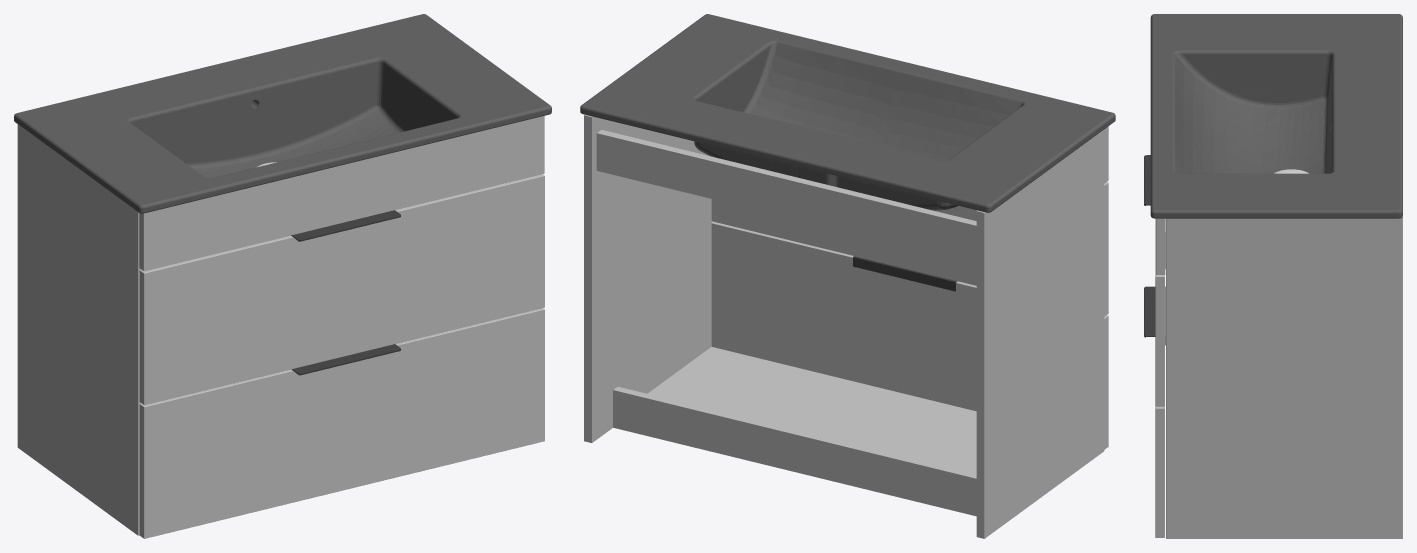
Rendered from AEC_47544.glb.
3 views of the same model, side by side, from view 1: azimuth 30°, elevation 25°; view 2: azimuth 150°, elevation 25°; view 3: azimuth 270°, elevation 25° (orthographic).
Visible parts, largest first — view 1: 0; view 2: 0; view 3: 0.
Boxes of the visible parts, x1,y1,x2,y2 form: 0: [14, 14, 551, 538]; 0: [580, 14, 1115, 538]; 0: [1144, 14, 1402, 538].
Size of the model in its own units: 0.8 by 0.622 by 0.4414.
Materials: 1 (1 with a texture image).
